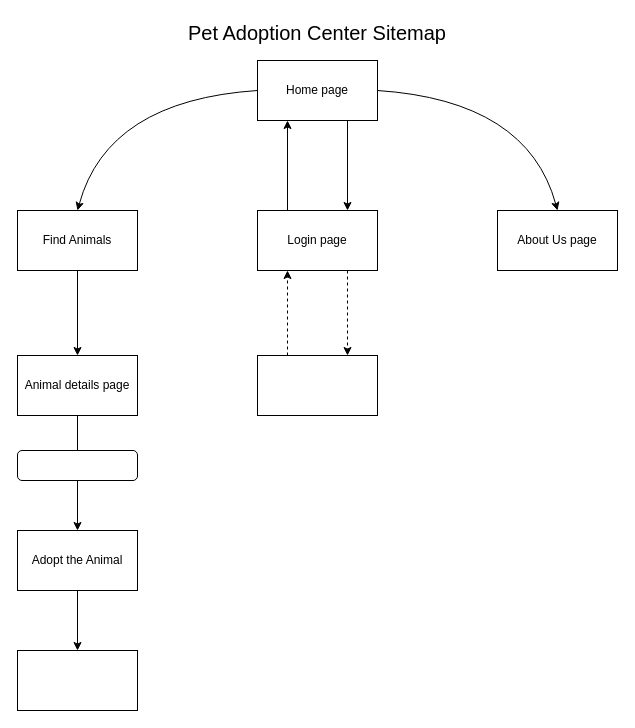
The diagram is 635 pixels wide and 728 high, and some of its shapes have lost their labels. The shapes that lost their labels are listed below. From the top down, each one's centre as x and y in pixels, then its label:
(x=317, y=385): Register Page
(x=77, y=465): User is logged in
(x=77, y=680): Confirmation
